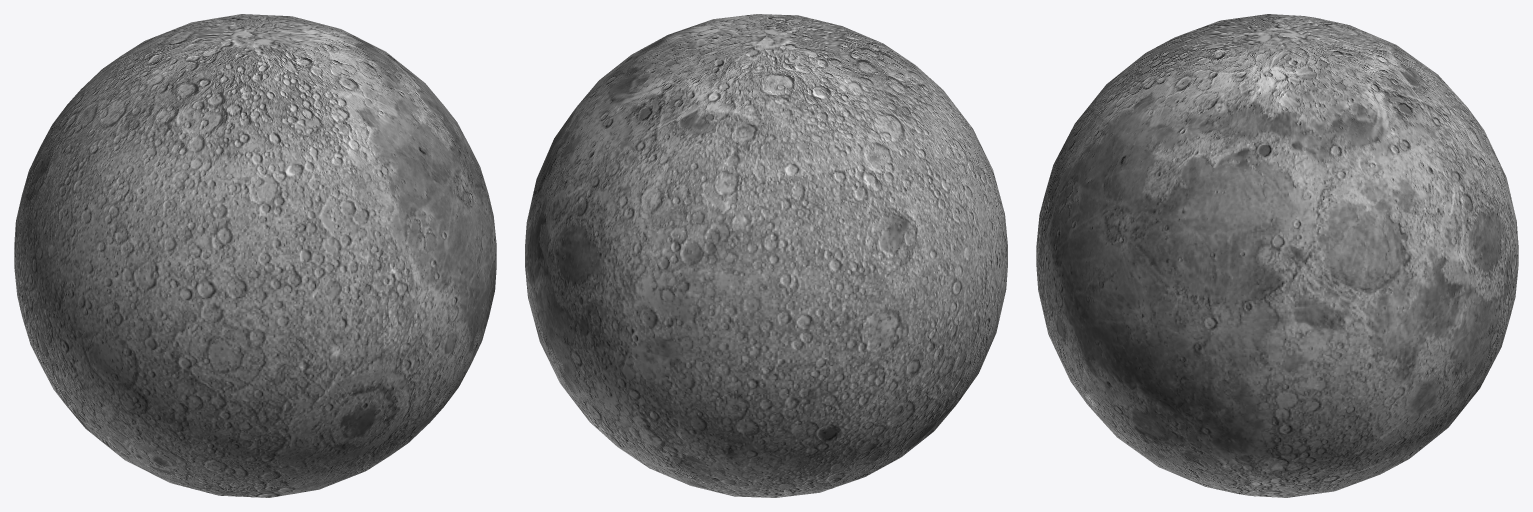
Rendered from neutralmoon.obj.
3 renders of one model, left to right at view 1: azimuth 30°, elevation 25°; view 2: azimuth 150°, elevation 25°; view 3: azimuth 270°, elevation 25°, orthographic.
Bounding box in the file's own units: 2 × 2 × 1.99.
Materials: 1 (1 with a texture image).
